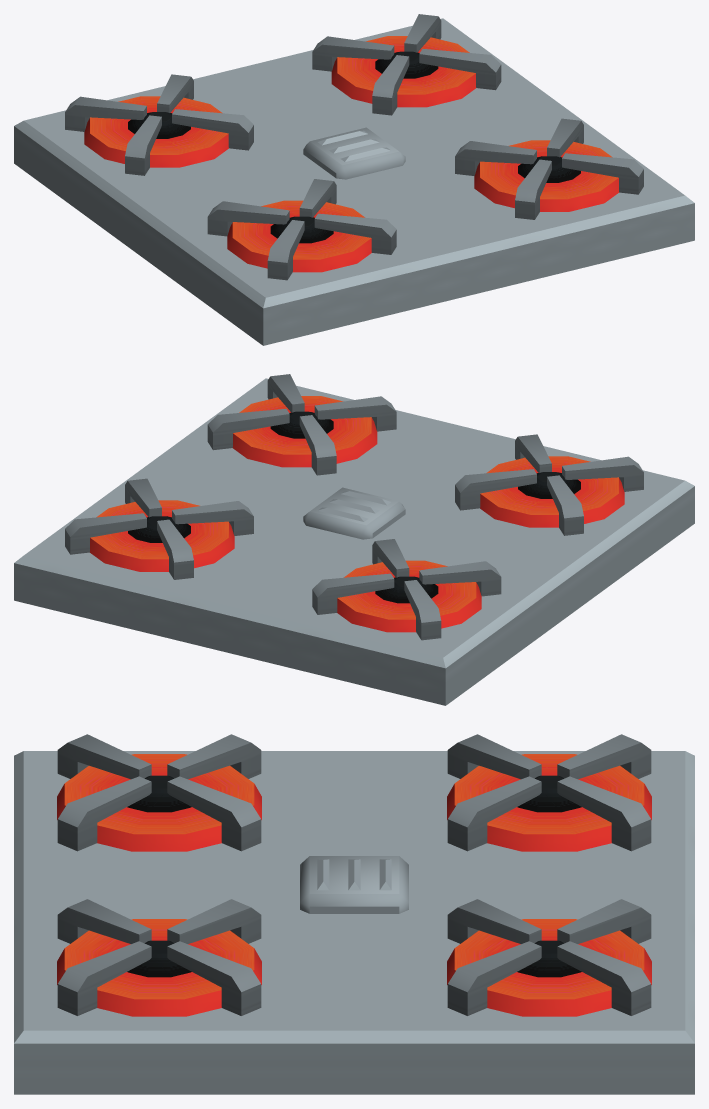
Rendered from stove-multi-countertop.glb.
3 renders of one model, top to bottom at view 1: azimuth 30°, elevation 25°; view 2: azimuth 150°, elevation 25°; view 3: azimuth 270°, elevation 25°, orthographic. The views are drawn at different scales.
Visible parts, largest first — view 1: stove_multi_countertop; view 2: stove_multi_countertop; view 3: stove_multi_countertop.
Part boxes in pixels (bbox=[...]): stove_multi_countertop: bbox=[14, 14, 694, 345]; stove_multi_countertop: bbox=[14, 374, 694, 705]; stove_multi_countertop: bbox=[14, 734, 694, 1094].
Size of the model in its own units: 1.75 by 0.27 by 1.75.
1 material, 1 textured.
